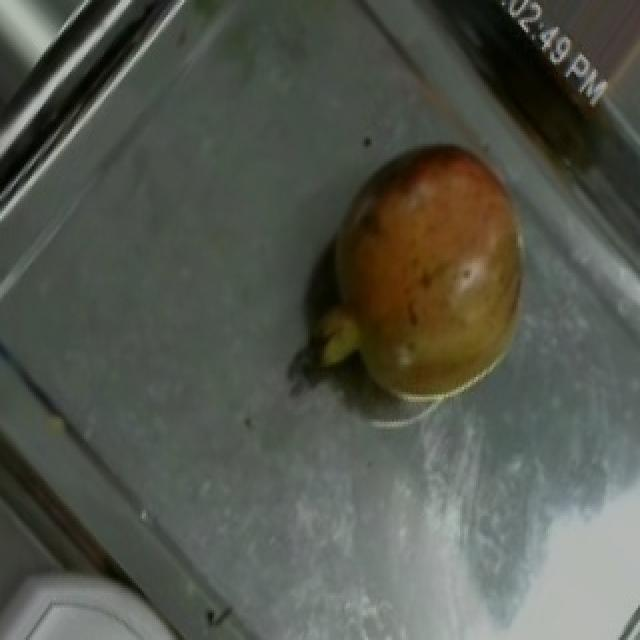fruit: (296, 111, 562, 406)
